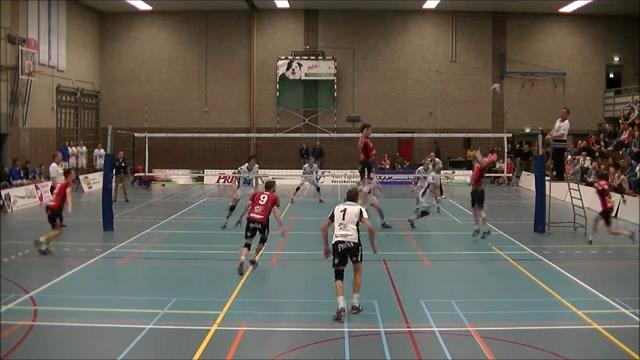Player: (322, 188, 376, 321), (236, 180, 285, 275), (34, 169, 73, 254), (588, 172, 634, 244), (222, 155, 258, 228), (357, 177, 391, 228), (290, 157, 323, 202), (408, 173, 435, 227), (358, 123, 375, 180), (412, 161, 428, 213), (429, 153, 441, 212)
Set: (463, 146, 496, 243)
ball: (492, 81, 501, 93)
